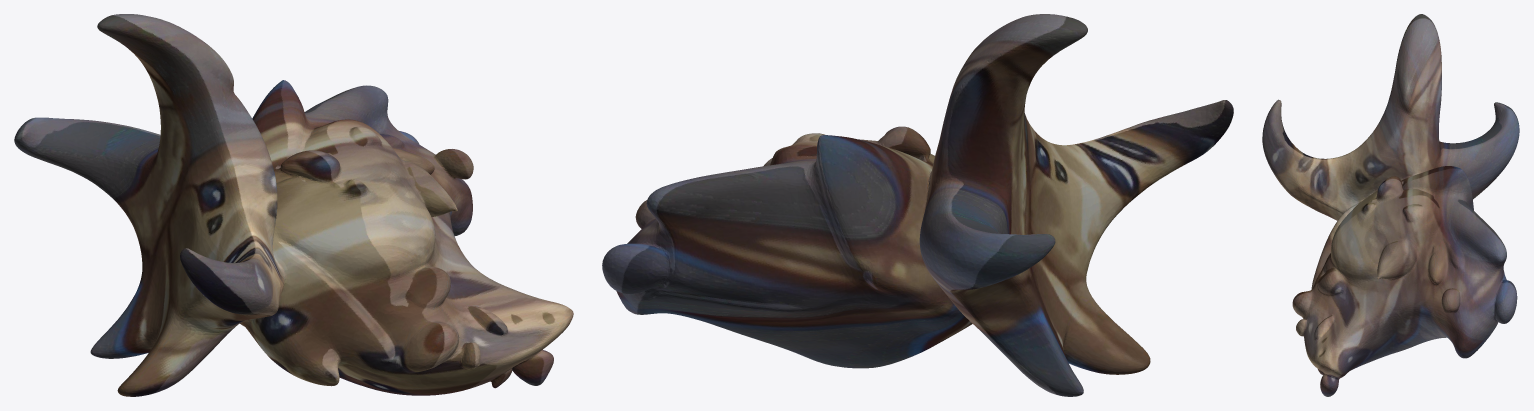
The model's file is fossilized_voidworm_tooth.glb.
3 renders of one model, left to right at view 1: azimuth 30°, elevation 25°; view 2: azimuth 150°, elevation 25°; view 3: azimuth 270°, elevation 25°, orthographic. The views are drawn at different scales.
Bounding box in the file's own units: 1.99 × 1.77 × 1.55.
Materials: 1 (1 with a texture image).
